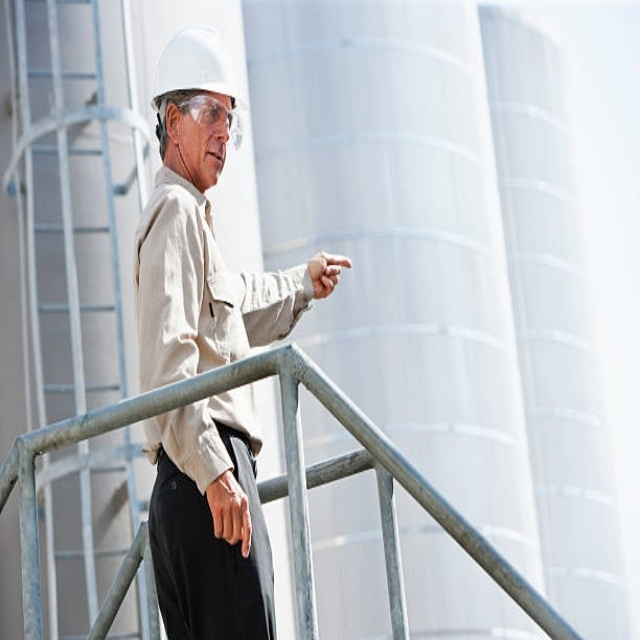Gafas: (170, 94, 244, 151)
Sin_guantes: (207, 471, 253, 554), (308, 250, 353, 300)
Sin_mascara: (197, 141, 228, 177)
